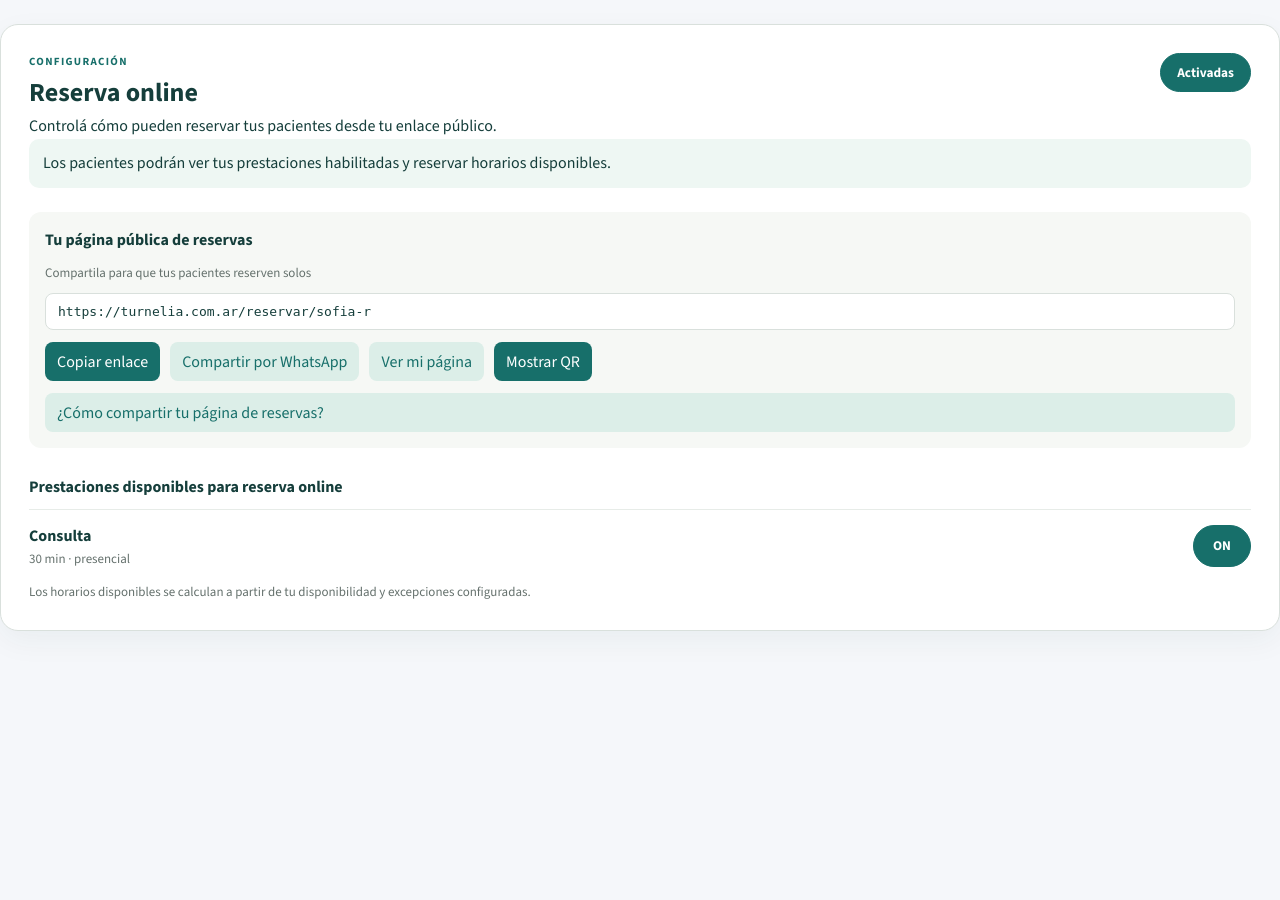
Scenario: ReservaOnlinePanel › activa/desactiva principal y copia enlace
Click the button "Activadas" at (1206,72), box x1=1160 y1=53 x2=1251 y2=92
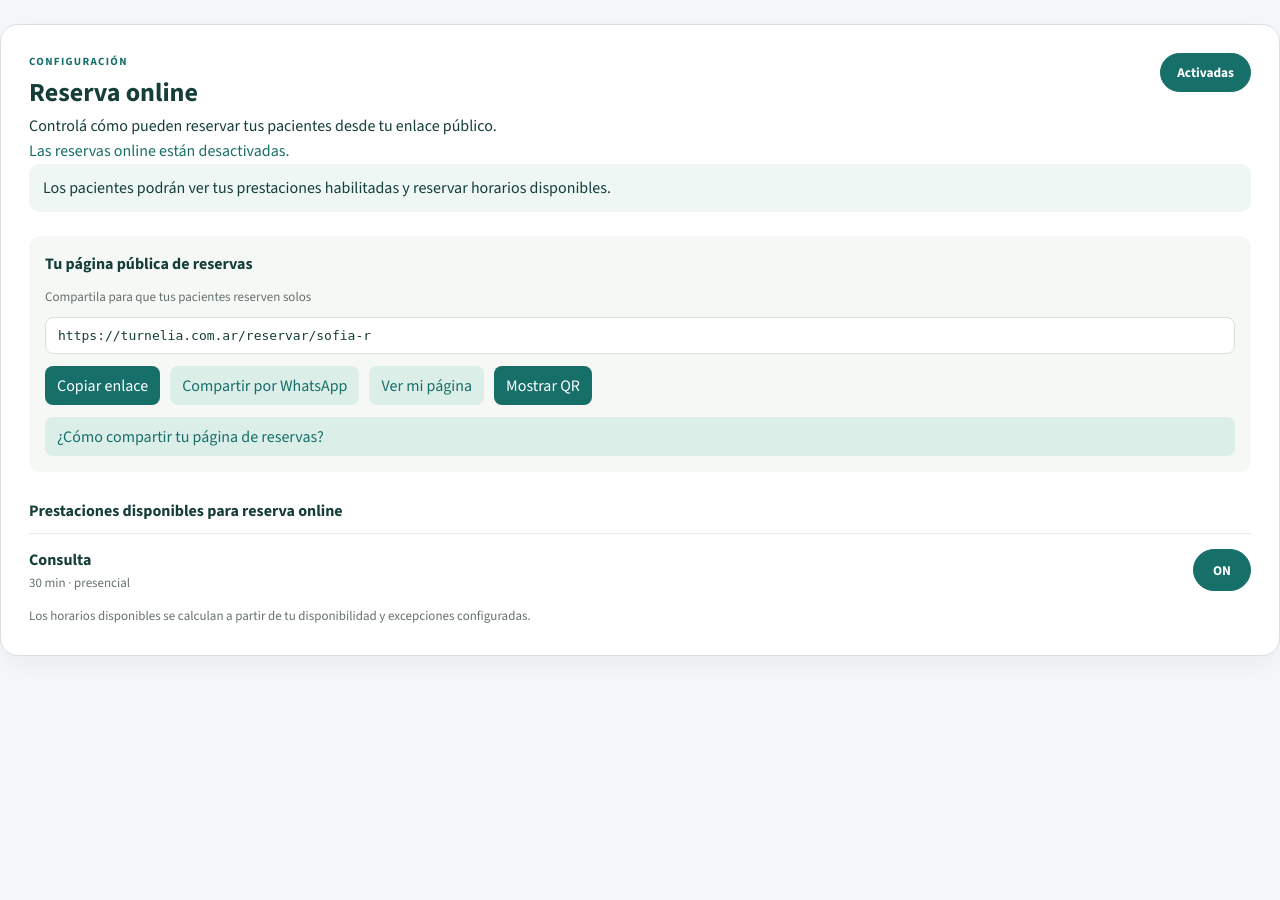
Click the button "Copiar enlace" at (103,386), box x1=45 y1=366 x2=160 y2=405
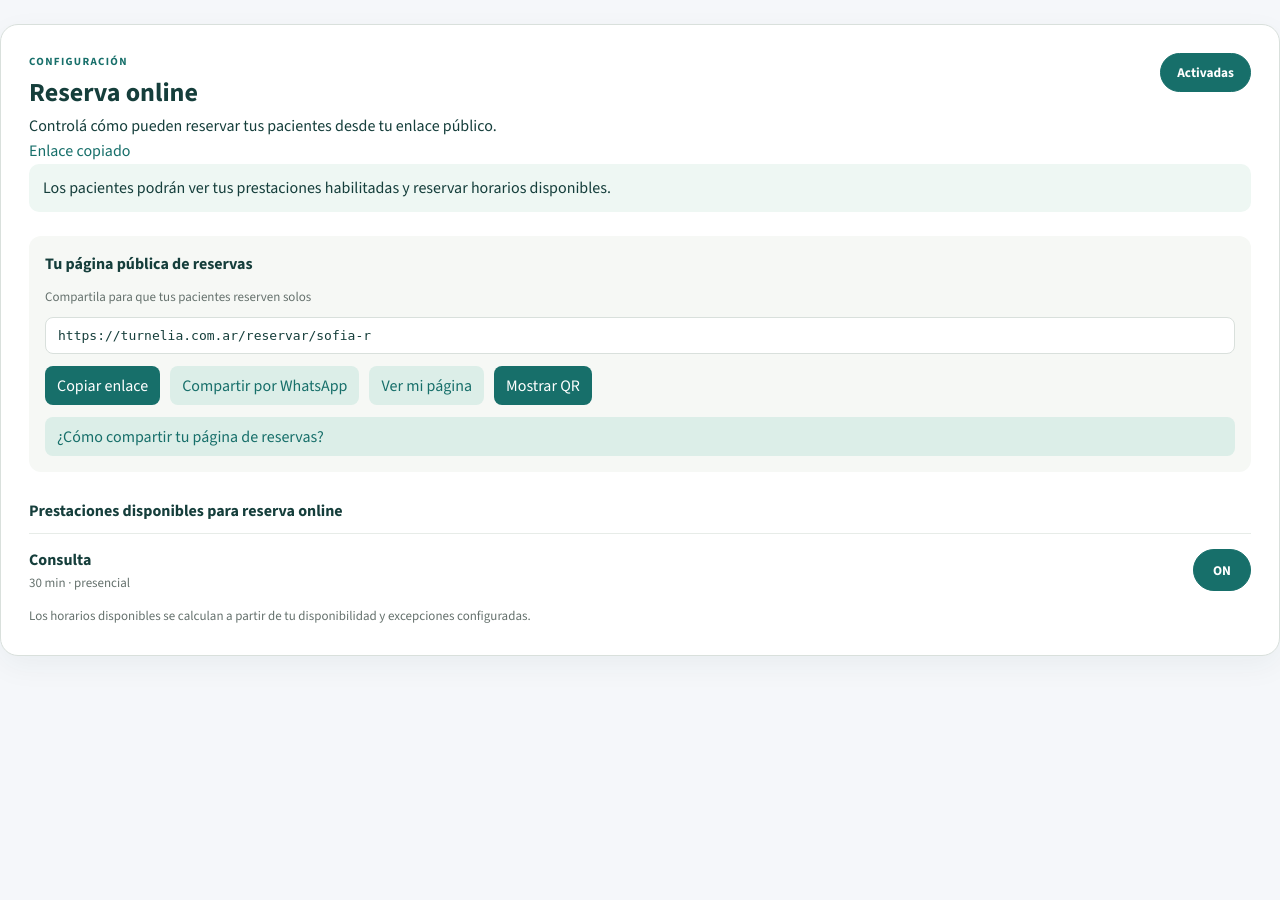
Now the text "Enlace copiado" is shown, box x1=29 y1=140 x2=130 y2=161
